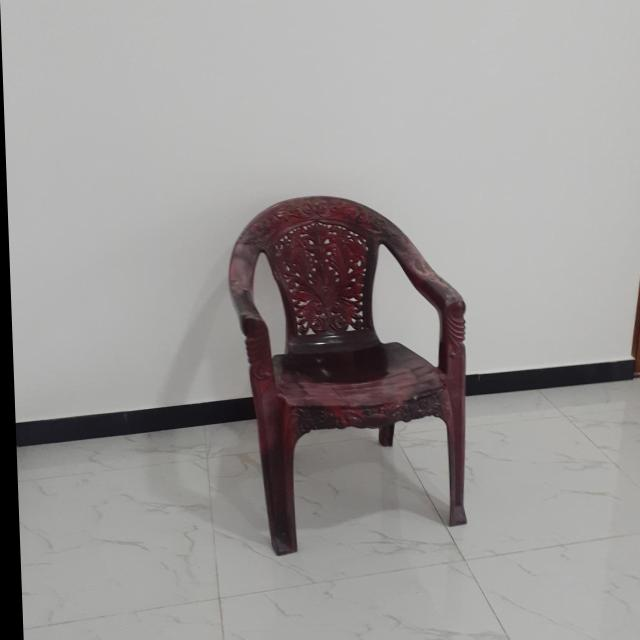Chair: (222, 194, 476, 559)
